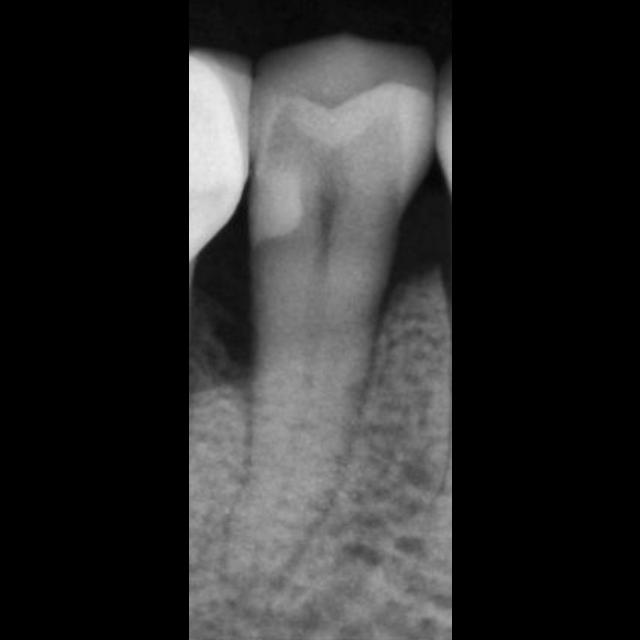tooth: (216, 35, 439, 614)
